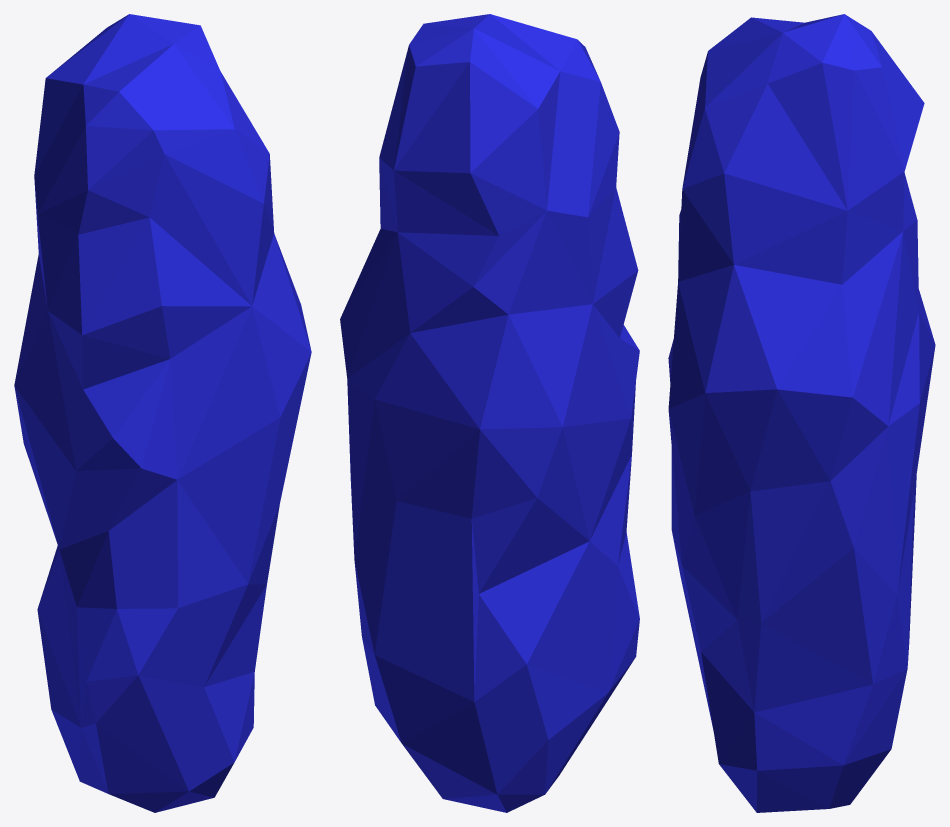
The model's file is Crystal2.fbx.
3 views of the same model, side by side, from view 1: azimuth 30°, elevation 25°; view 2: azimuth 150°, elevation 25°; view 3: azimuth 270°, elevation 25° (orthographic). The views are drawn at different scales.
Parts seen in each view (by area): view 1: Crystal2; view 2: Crystal2; view 3: Crystal2.
Boxes of the visible parts, x1,y1,x2,y2 form: Crystal2: (14, 14, 311, 812); Crystal2: (340, 14, 639, 812); Crystal2: (668, 14, 935, 812).
Size of the model in its own units: 84.23 by 254 by 78.59.
